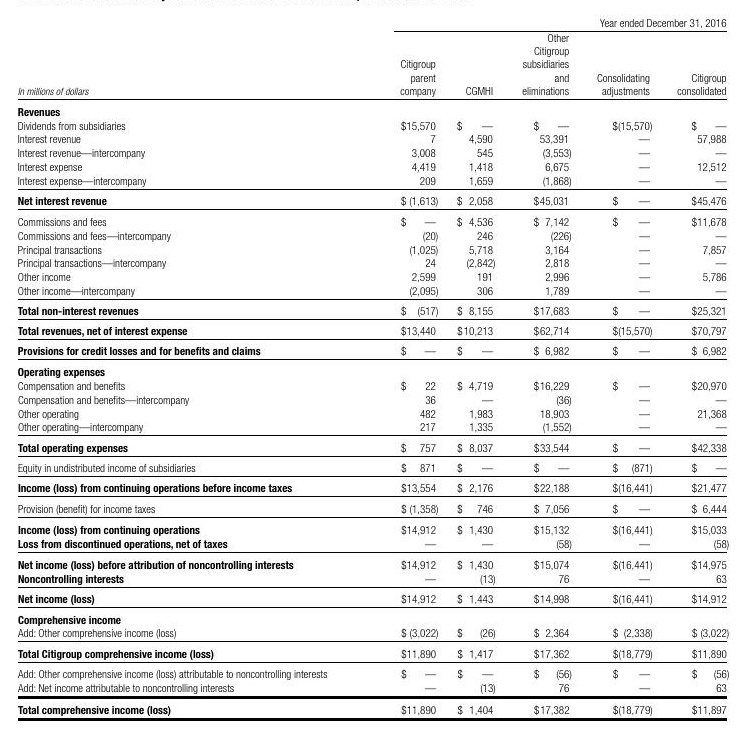table: (0, 0, 745, 736)
